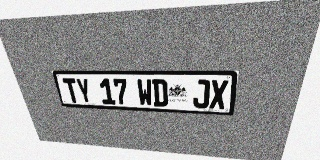1: (98, 78, 116, 105)
7: (112, 79, 129, 105)
D: (152, 79, 168, 107)
J: (193, 80, 210, 108)
T: (62, 78, 81, 103)
W: (136, 79, 153, 106)
X: (209, 80, 228, 109)
Y: (75, 78, 93, 104)
